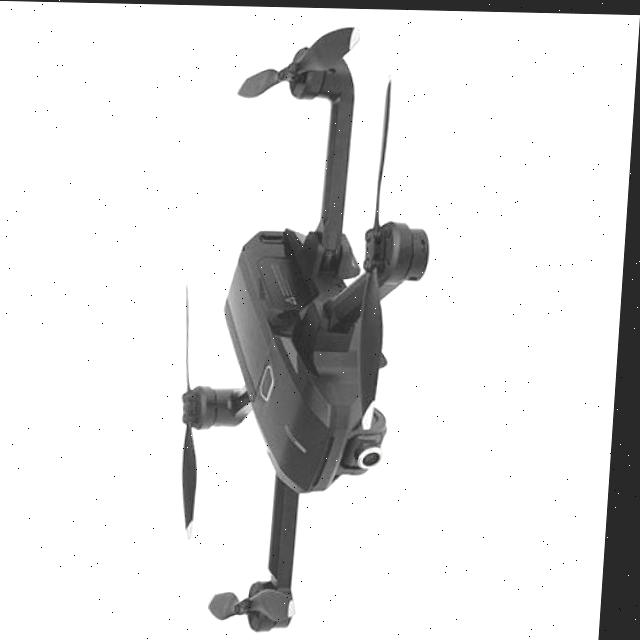drone: (135, 13, 445, 637)
